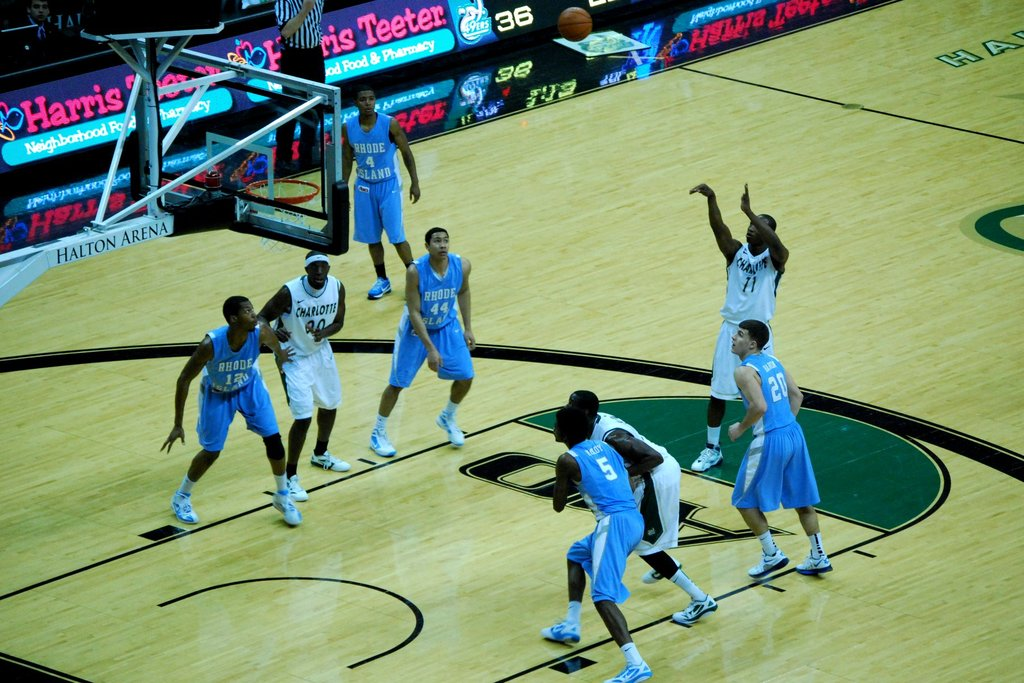Ball: (558, 6, 592, 42)
